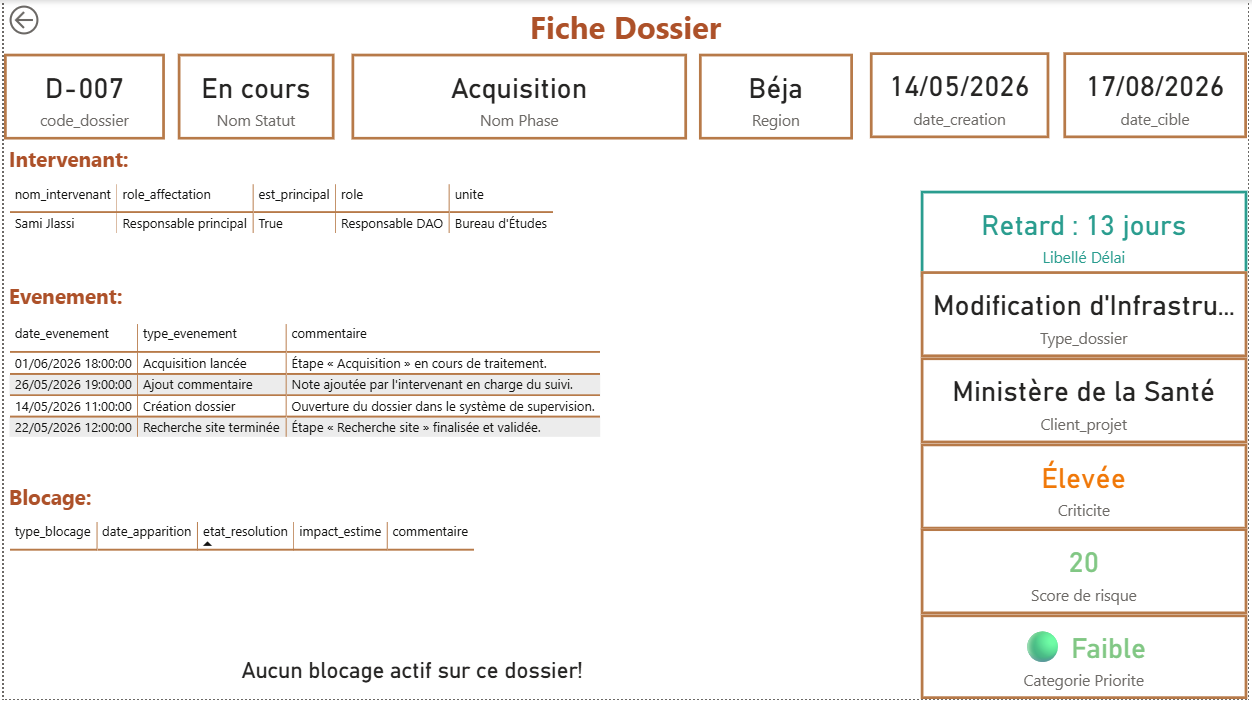

The dashboard page shown, as its layout file describes it:
{"tool":"powerbi","page":{"name":"Fiche Dossier","canvas":[1280,720],"ordinal":5},"visuals":[{"type":"textbox","box":[0,0,1279.6,53.8],"z":0},{"type":"actionButton","box":[0,0,100.3,40.7],"z":1000},{"type":"card","fields":{"Values":["Min(Dossier.code_dossier)"]},"box":[0,55.3,165.8,88.7],"z":2000},{"type":"card","fields":{"Values":["Min(Dossier.region)"]},"box":[716,55.3,158.5,88.7],"z":3000},{"type":"card","fields":{"Values":["Min(Dossier.Nom Phase)"]},"box":[358.2,55.2,345.6,88.4],"z":4000},{"type":"card","fields":{"Values":["Min(Dossier.Nom Statut)"]},"box":[178.9,55.3,161.4,88.7],"z":5000},{"type":"card","fields":{"Values":["Dossier.Libellé Délai"]},"box":[943.6,195.7,336.1,88.4],"z":6000},{"type":"card","fields":{"Values":["Min(Dossier.date_creation)"]},"box":[891.9,53.8,184.7,88.7],"z":7000},{"type":"tableEx","fields":{"Values":["Intervenant.nom_intervenant","Dossier_Intervenant.role_affectation","Dossier_Intervenant.est_principal","Intervenant.role","Intervenant.unite"]},"box":[0,184.6,639.1,99.4],"z":8000},{"type":"tableEx","fields":{"Values":["Evenement.date_evenement","Evenement.type_evenement","Evenement.commentaire"]},"box":[0,328.2,840.1,216.8],"z":9000},{"type":"tableEx","fields":{"Values":["Blocage.type_blocage","Blocage.date_apparition","Blocage.etat_resolution","Blocage.impact_estime","Blocage.commentaire"]},"box":[0,531.8,943.6,124.7],"z":10000},{"type":"card","fields":{"Values":["Min(Echeance.date_cible)"]},"box":[1091.1,53.8,189,88.7],"z":11000},{"type":"textbox","box":[0,144,1147.3,40.7],"z":12000},{"type":"textbox","box":[0,284.6,340.3,43.7],"z":13000},{"type":"textbox","box":[0,491.9,307.1,40.7],"z":14000},{"type":"card","fields":{"Values":["Min(Dossier.type_dossier)"]},"box":[943.6,279.3,336.1,88.5],"z":16000},{"type":"card","fields":{"Values":["Min(Dossier.client_projet)"]},"box":[943.6,367.7,336.1,88.5],"z":17000},{"type":"card","fields":{"Values":["Min(Dossier.criticite)"]},"box":[943.6,456,336.1,88.5],"z":18000},{"type":"card","fields":{"Values":["Sum(Dossier.Score de risque)"]},"box":[943.6,544.4,336.1,88.4],"z":19000},{"type":"card","fields":{"Values":["Min(Dossier.Categorie Priorite)"]},"box":[943.6,632.8,336.1,86.8],"z":20000},{"type":"card","fields":{"Values":["Dossier.Message Zone Blocage"]},"box":[0,658,839.5,61.5],"z":21000}]}

Visuals, with their boxes in screenshot pixels (x1, y1, x2, y2), scaled from the page's 1280x720 canvas onto the 1252x702 screenshot:
textbox: 0/0/1251/52
actionButton: 0/0/98/40
card - Min(Dossier.code_dossier): 0/54/162/140
card - Min(Dossier.region): 700/54/855/140
card - Min(Dossier.Nom Phase): 350/54/688/140
card - Min(Dossier.Nom Statut): 175/54/333/140
card - Dossier.Libellé Délai: 923/191/1251/277
card - Min(Dossier.date_creation): 872/52/1053/139
tableEx - Intervenant.nom_intervenant x Dossier_Intervenant.role_affectation: 0/180/625/277
tableEx - Evenement.date_evenement x Evenement.type_evenement: 0/320/822/531
tableEx - Blocage.type_blocage x Blocage.date_apparition: 0/519/923/640
card - Min(Echeance.date_cible): 1067/52/1251/139
textbox: 0/140/1122/180
textbox: 0/277/333/320
textbox: 0/480/300/519
card - Min(Dossier.type_dossier): 923/272/1251/359
card - Min(Dossier.client_projet): 923/359/1251/445
card - Min(Dossier.criticite): 923/445/1251/531
card - Sum(Dossier.Score de risque): 923/531/1251/617
card - Min(Dossier.Categorie Priorite): 923/617/1251/701
card - Dossier.Message Zone Blocage: 0/642/821/701
